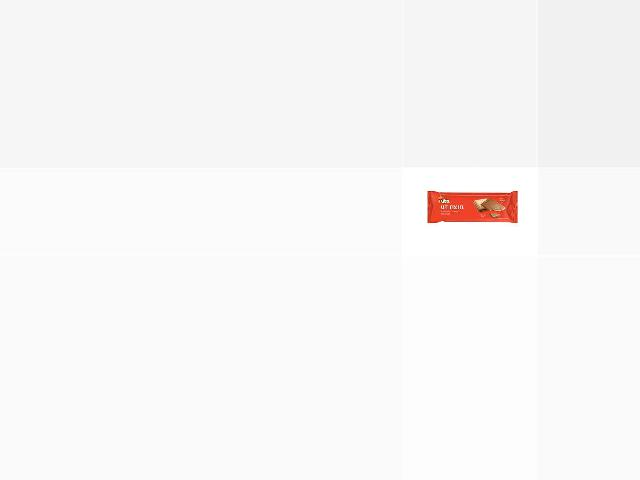chocolate: (423, 191, 517, 224)
